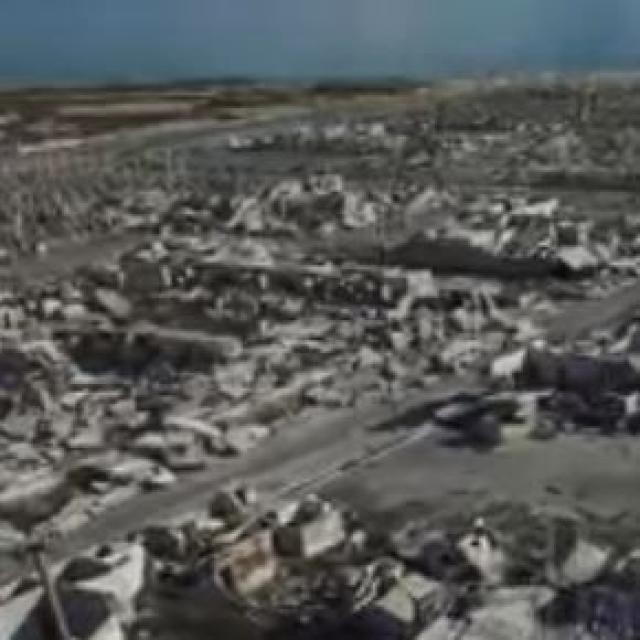collapsed_building: (0, 247, 472, 498), (77, 494, 638, 638), (152, 159, 638, 293)
